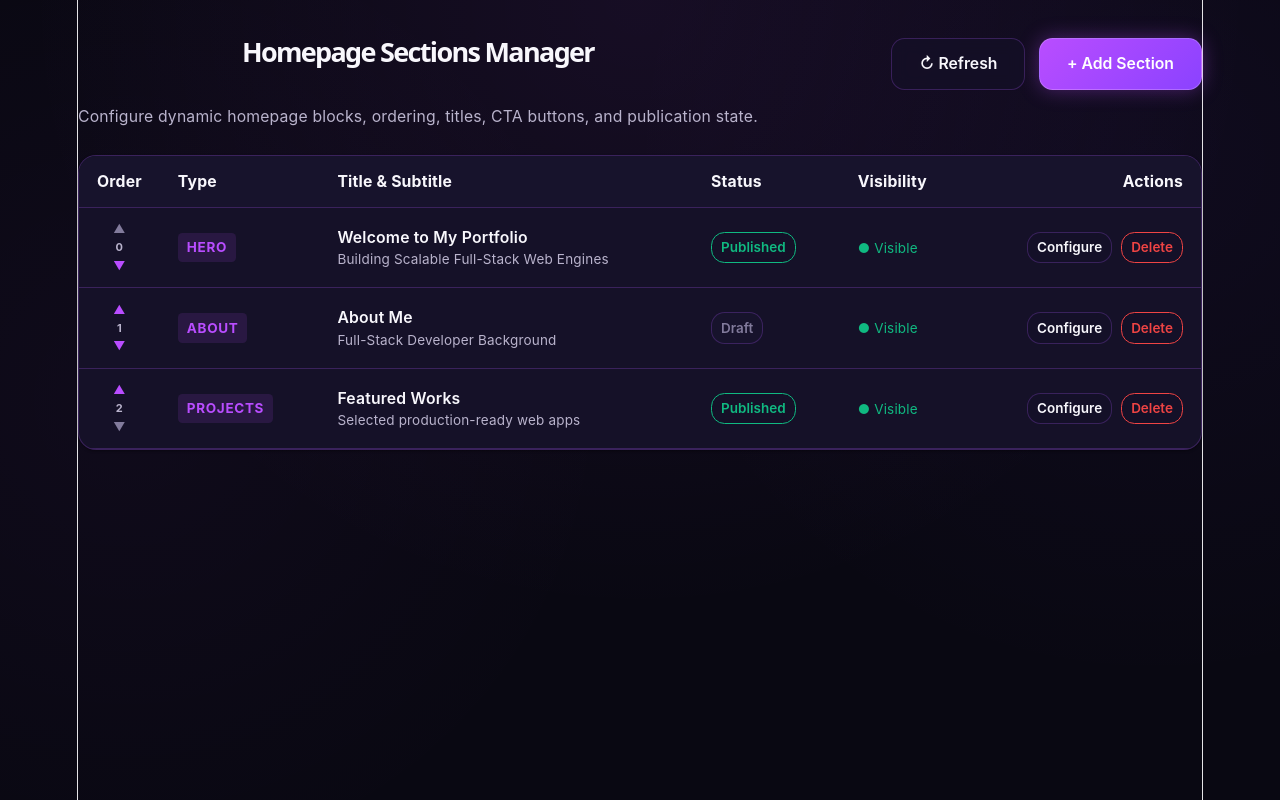
Test: HomepageSectionManager Component (src/pages/admin/HomepageSectionManager.jsx) › 4. Toggles section publication status
Expected: the text "Welcome to My Portfolio" is shown, [337,228,528,247]
Click the button "Published" in the row of "hero". click: (753, 248)
box: [711,232,796,263]
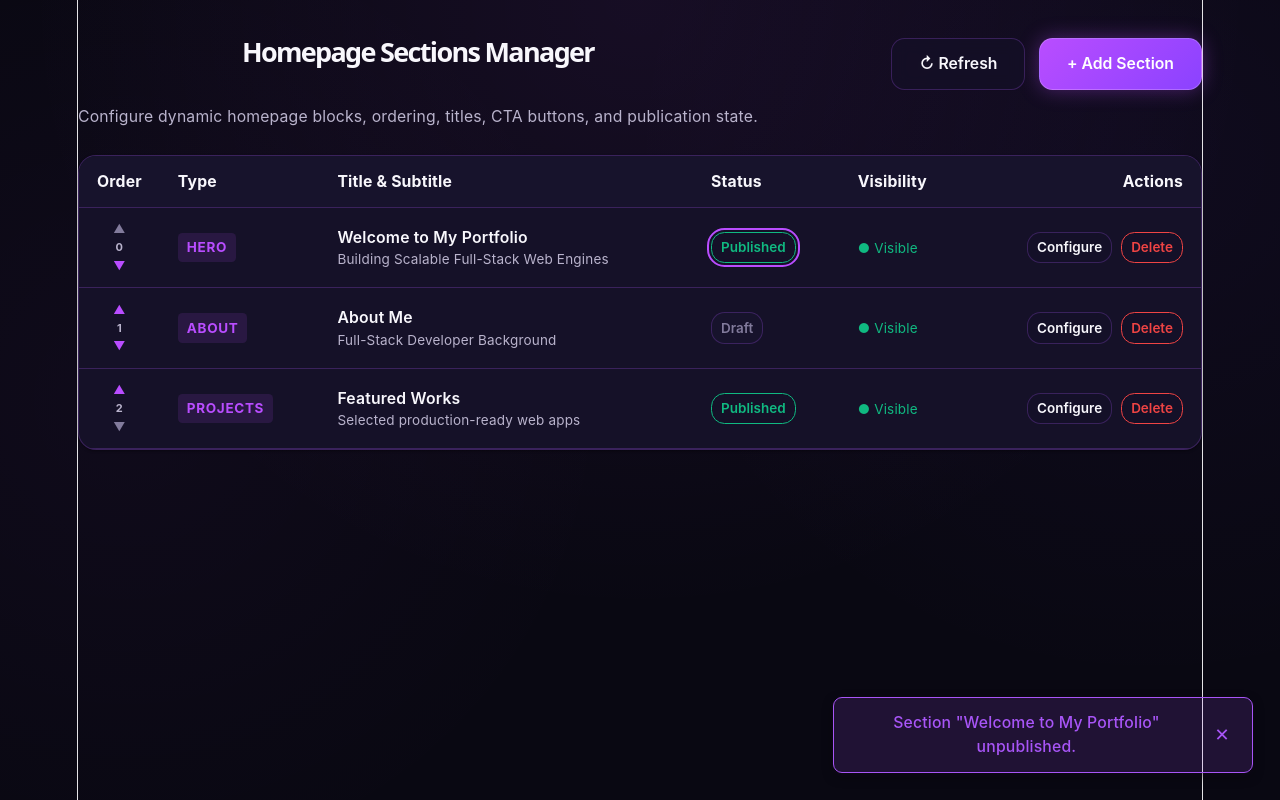
Result: the text "Section \"Welcome to My Portfolio\" unpublished." is shown at [893,713,1160,756]
